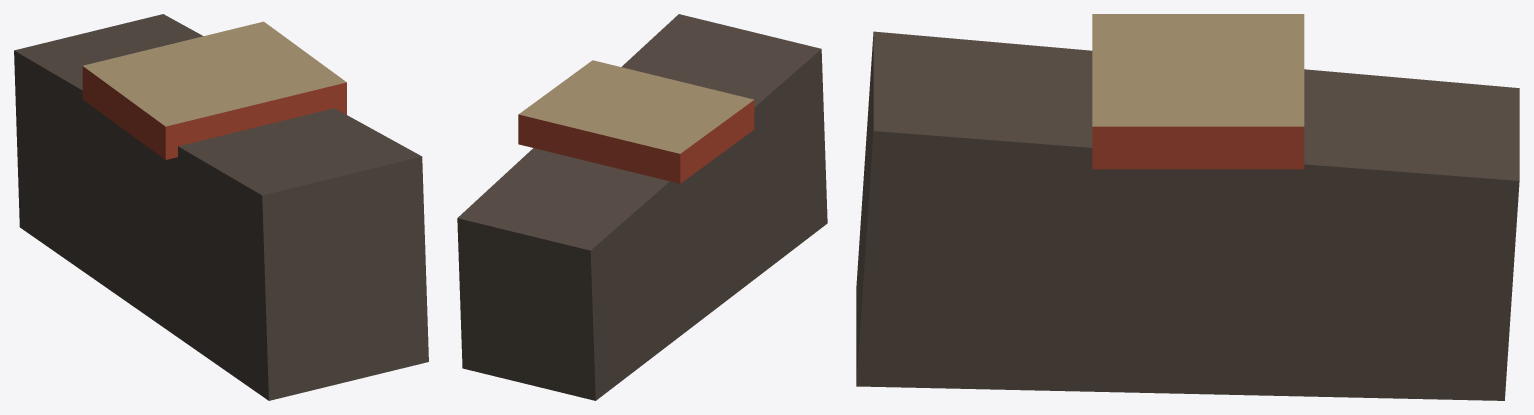
The model's file is horse_body.obj.
The picture shows the model from 3 angles, left to right: view 1: azimuth 30°, elevation 25°; view 2: azimuth 150°, elevation 25°; view 3: azimuth 270°, elevation 25°; orthographic projection. The views are drawn at different scales.
Visible parts, largest first — view 1: horse_body; view 2: horse_body; view 3: horse_body.
Boxes of the visible parts, <box> form: horse_body: <box>14,14,428,400</box>; horse_body: <box>457,14,827,400</box>; horse_body: <box>856,14,1519,400</box>.
Bounding box in the file's own units: 0.68 × 0.7994 × 1.69.
